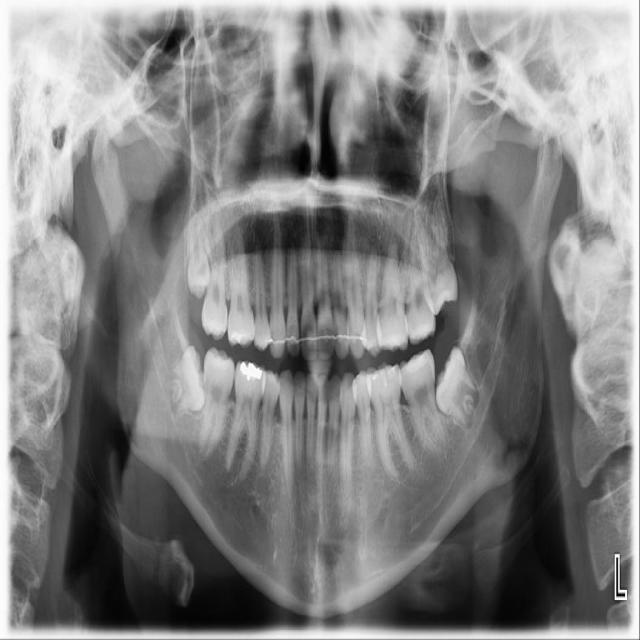Filling: (368, 364, 397, 384), (238, 362, 264, 381)
impacted tooth: (416, 210, 460, 313), (185, 205, 207, 297)
